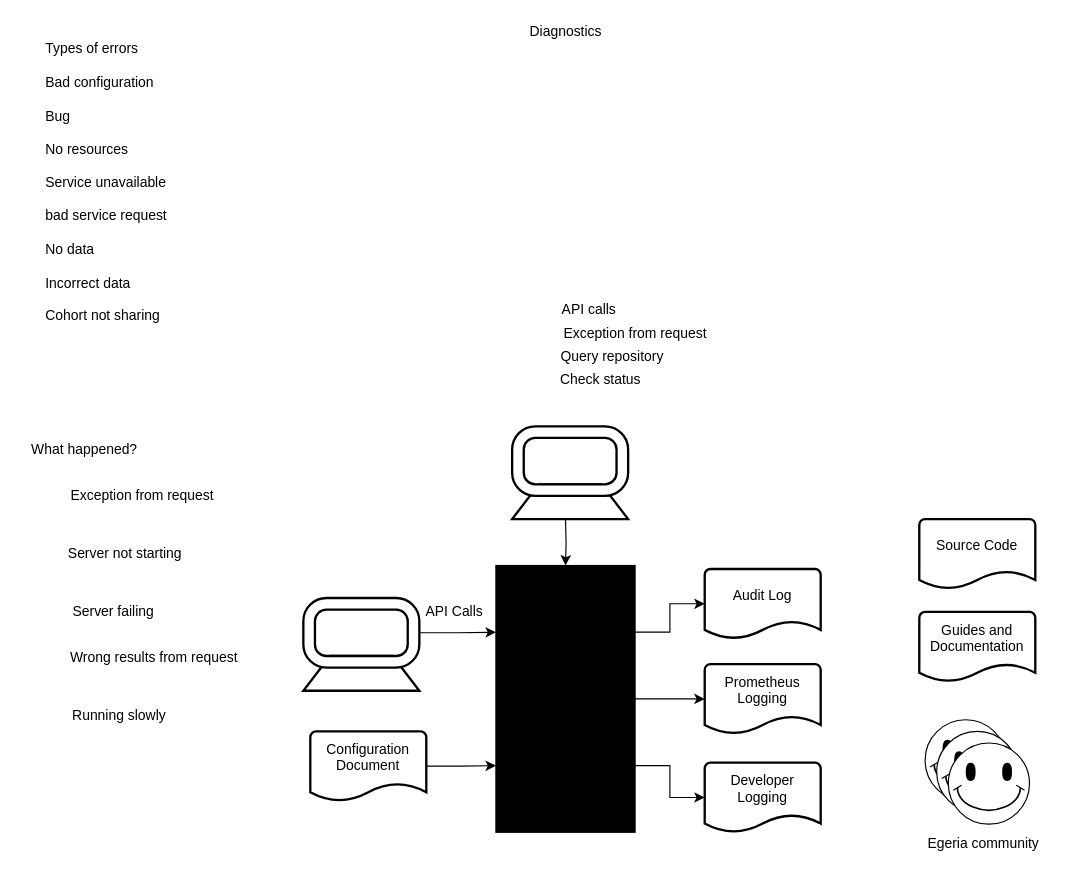
The diagram is 1066 pixels wide and 875 high, and some of its shapes have lost their labels. Each missing label, with the centre of its shape:
Egeria UIs: (x=569, y=460)
OMAG Server Platform: (x=565, y=698)
